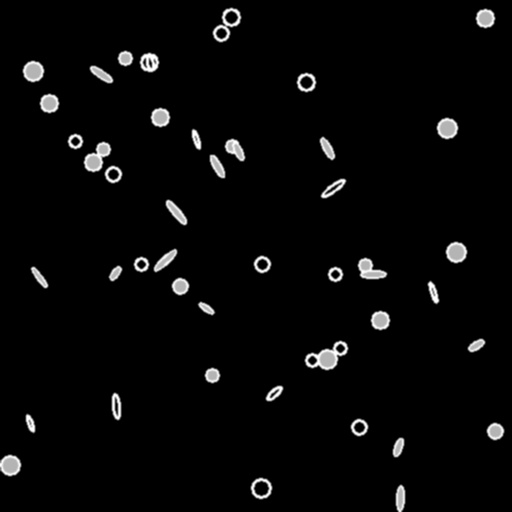pseudomonas: (152, 248, 178, 272), (164, 199, 188, 225), (321, 178, 345, 198), (89, 65, 113, 83), (318, 136, 336, 160), (209, 154, 225, 178), (30, 267, 48, 287), (265, 385, 283, 401), (391, 437, 405, 457), (231, 141, 245, 161), (111, 393, 121, 419), (467, 338, 485, 352), (198, 301, 214, 315), (108, 265, 122, 281), (428, 282, 438, 302), (191, 129, 201, 149), (25, 414, 35, 432), (145, 55, 155, 71), (397, 485, 403, 511), (360, 271, 386, 277)
synechocystis: (438, 119, 456, 137), (1, 456, 19, 474), (24, 62, 42, 80), (447, 243, 465, 261), (252, 479, 270, 497), (318, 350, 336, 368), (298, 74, 314, 90), (372, 312, 388, 328), (85, 154, 101, 170), (152, 109, 168, 125), (141, 54, 157, 70), (41, 95, 57, 111), (477, 10, 493, 26), (223, 9, 239, 25), (106, 167, 120, 181), (255, 257, 269, 271), (173, 279, 187, 293), (214, 26, 228, 40), (488, 424, 502, 438), (352, 420, 366, 434), (334, 342, 346, 354), (359, 259, 371, 271), (329, 268, 341, 280), (206, 369, 218, 381), (135, 258, 147, 270), (306, 354, 318, 366), (226, 140, 238, 152), (69, 135, 81, 147), (119, 52, 131, 64), (97, 143, 109, 155)
